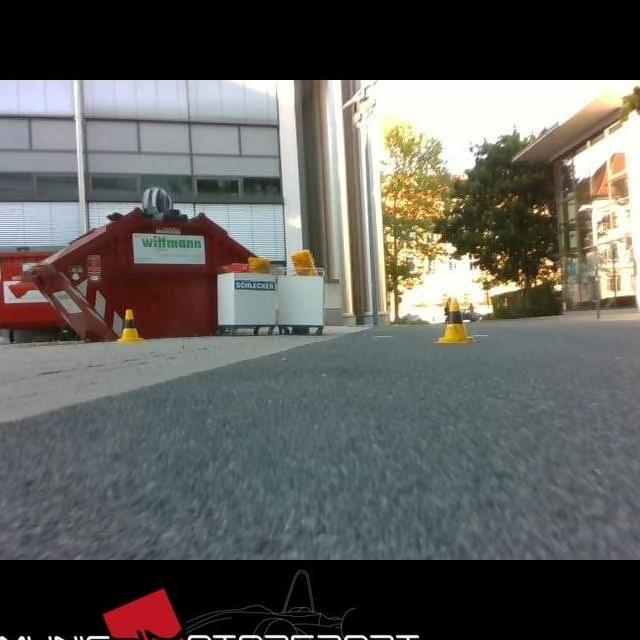Safety Cone: (436, 300, 477, 343), (117, 310, 143, 343)
